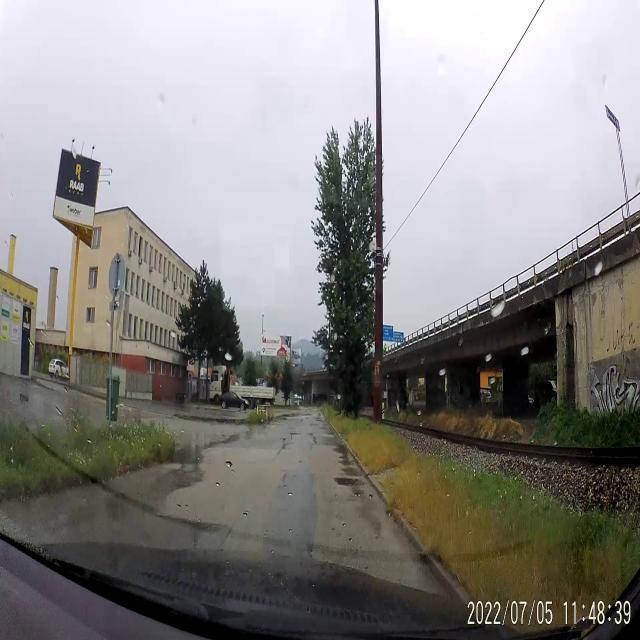Pothole: (332, 472, 364, 499), (307, 431, 318, 447), (289, 430, 299, 440)
